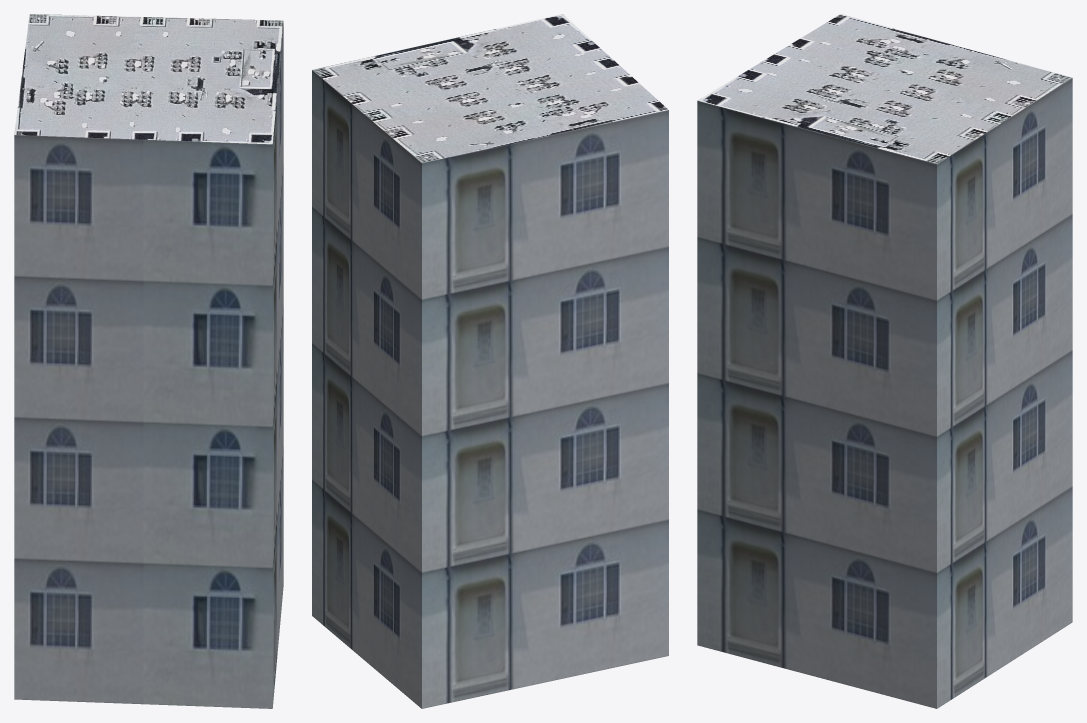
File: ResTex__723.fbx
3 renders of one model, left to right at view 1: azimuth 30°, elevation 25°; view 2: azimuth 150°, elevation 25°; view 3: azimuth 270°, elevation 25°, orthographic. The views are drawn at different scales.
Visible parts, largest first — view 1: CityEngineMaterial_17_m, CityEngineMaterial_4_m; view 2: CityEngineMaterial_17_m, CityEngineMaterial_4_m; view 3: CityEngineMaterial_17_m, CityEngineMaterial_4_m.
Boxes of the visible parts, x1=… form: CityEngineMaterial_17_m: x1=14, y1=23, x2=283, y2=708; CityEngineMaterial_4_m: x1=14, y1=14, x2=283, y2=144; CityEngineMaterial_17_m: x1=312, y1=70, x2=668, y2=708; CityEngineMaterial_4_m: x1=312, y1=14, x2=668, y2=162; CityEngineMaterial_17_m: x1=697, y1=78, x2=1072, y2=708; CityEngineMaterial_4_m: x1=698, y1=14, x2=1071, y2=163.
Size of the model in its own units: 7.1 by 12 by 7.49.
2 materials, 2 textured.
